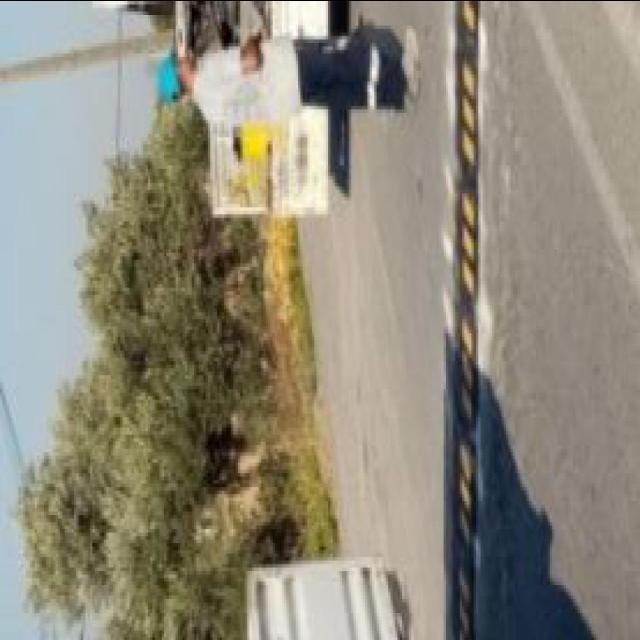speedbreaker: (442, 0, 482, 640)
